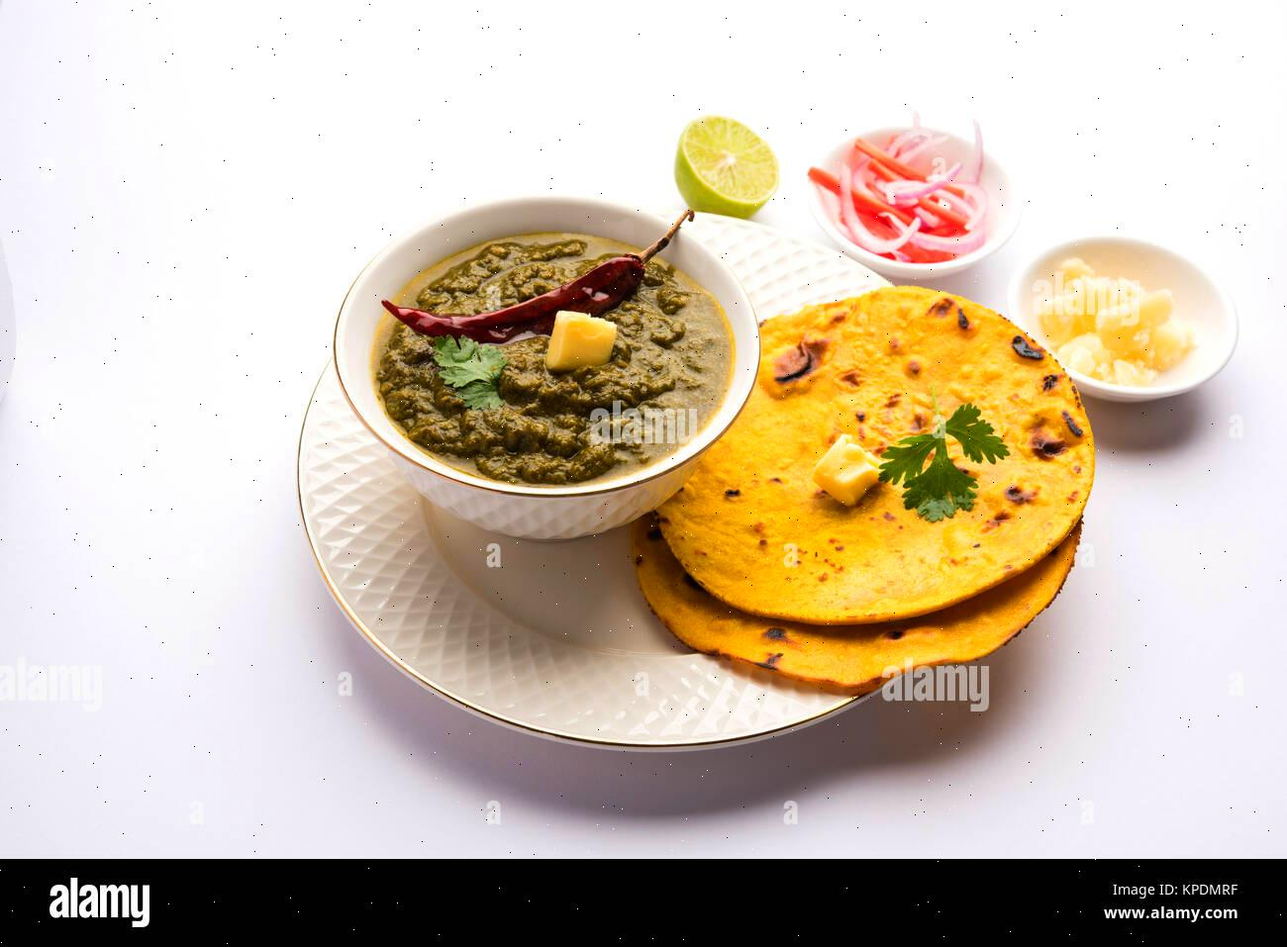saag: (375, 235, 741, 479)
